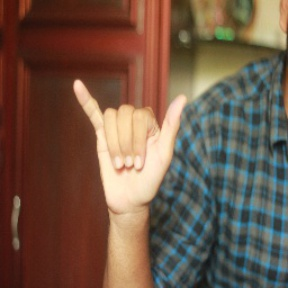J: (70, 76, 192, 208)
